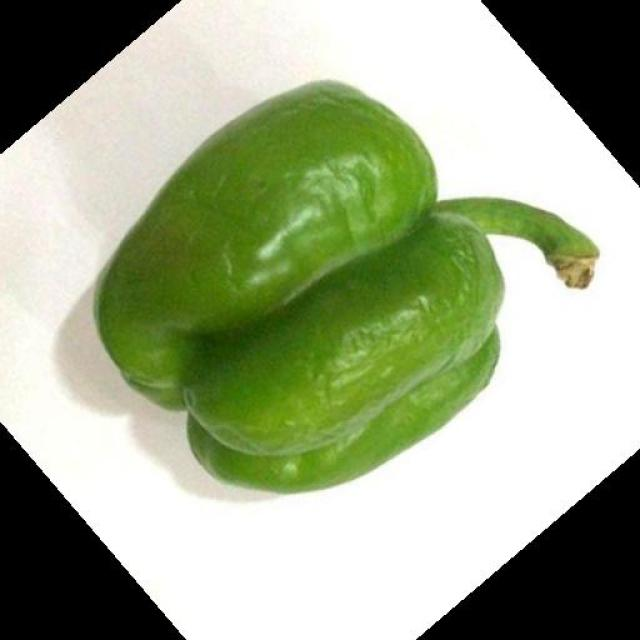Fresh_Capsicum: (104, 73, 600, 465)
